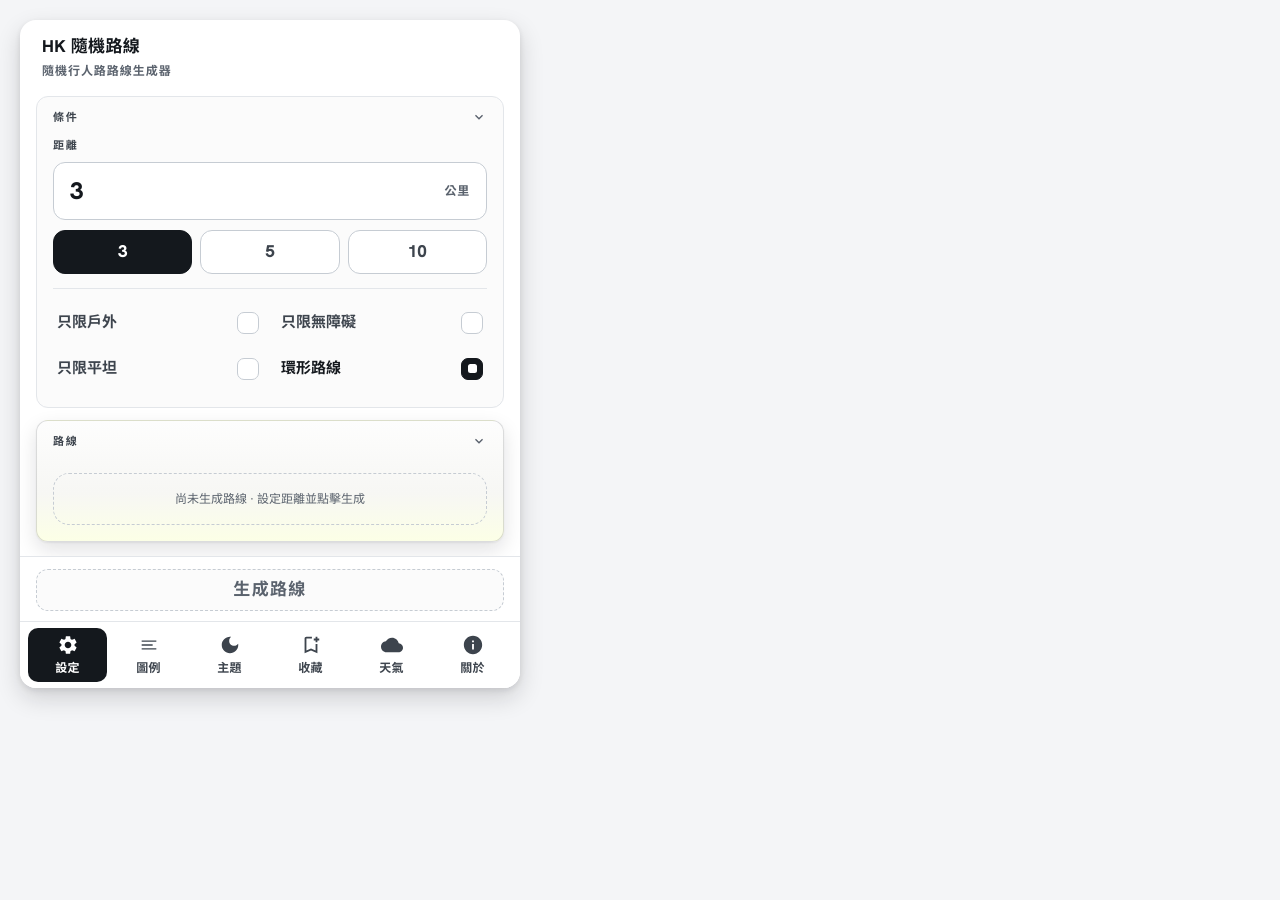
Test: app light end-to-end flow › opens the legend view from the utility bar
The image size is (1280, 900).
Expected: the text "有蓋路段" is not shown
Click the button "圖例".
click(148, 655)  # box 109,628 -> 188,682
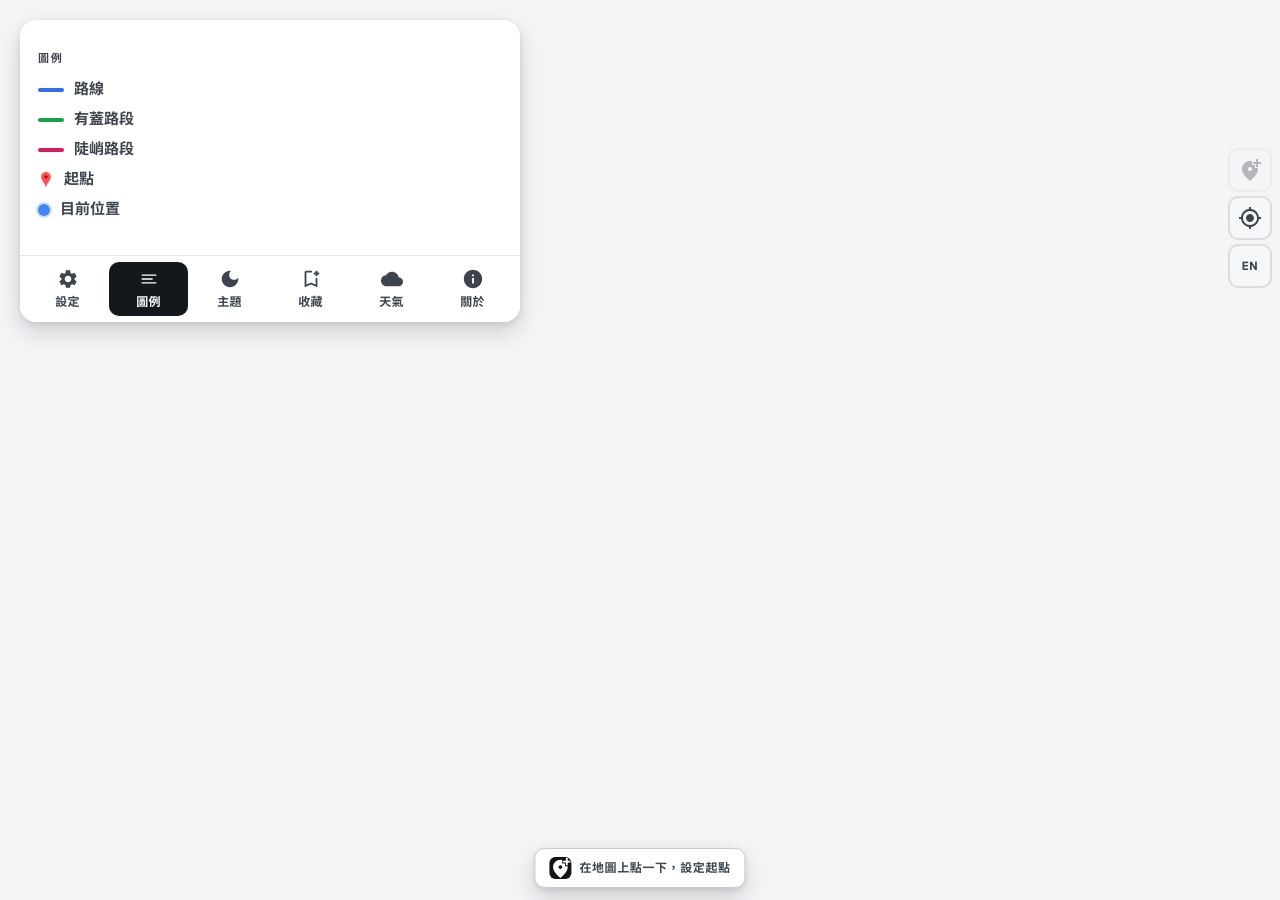
Expected: the text "有蓋路段" is shown, 74,109 -> 134,130
Expected: the text "陡峭路段" is shown, 74,139 -> 134,160
Click the button "圖例".
click(148, 288)  # box 109,262 -> 188,316
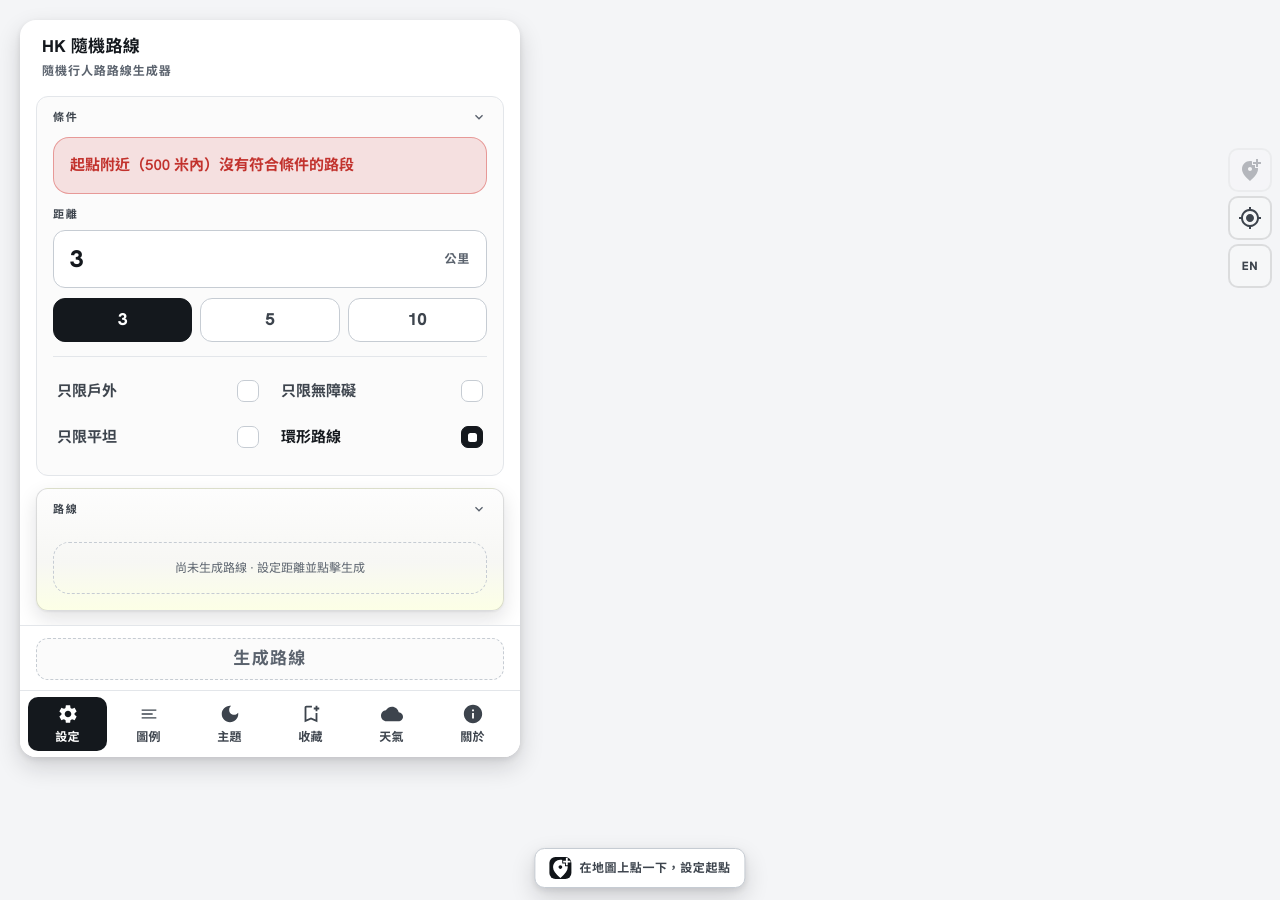
Expected: the text "有蓋路段" is gone
